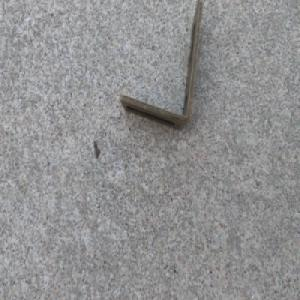MetalPart: (120, 0, 205, 131)
